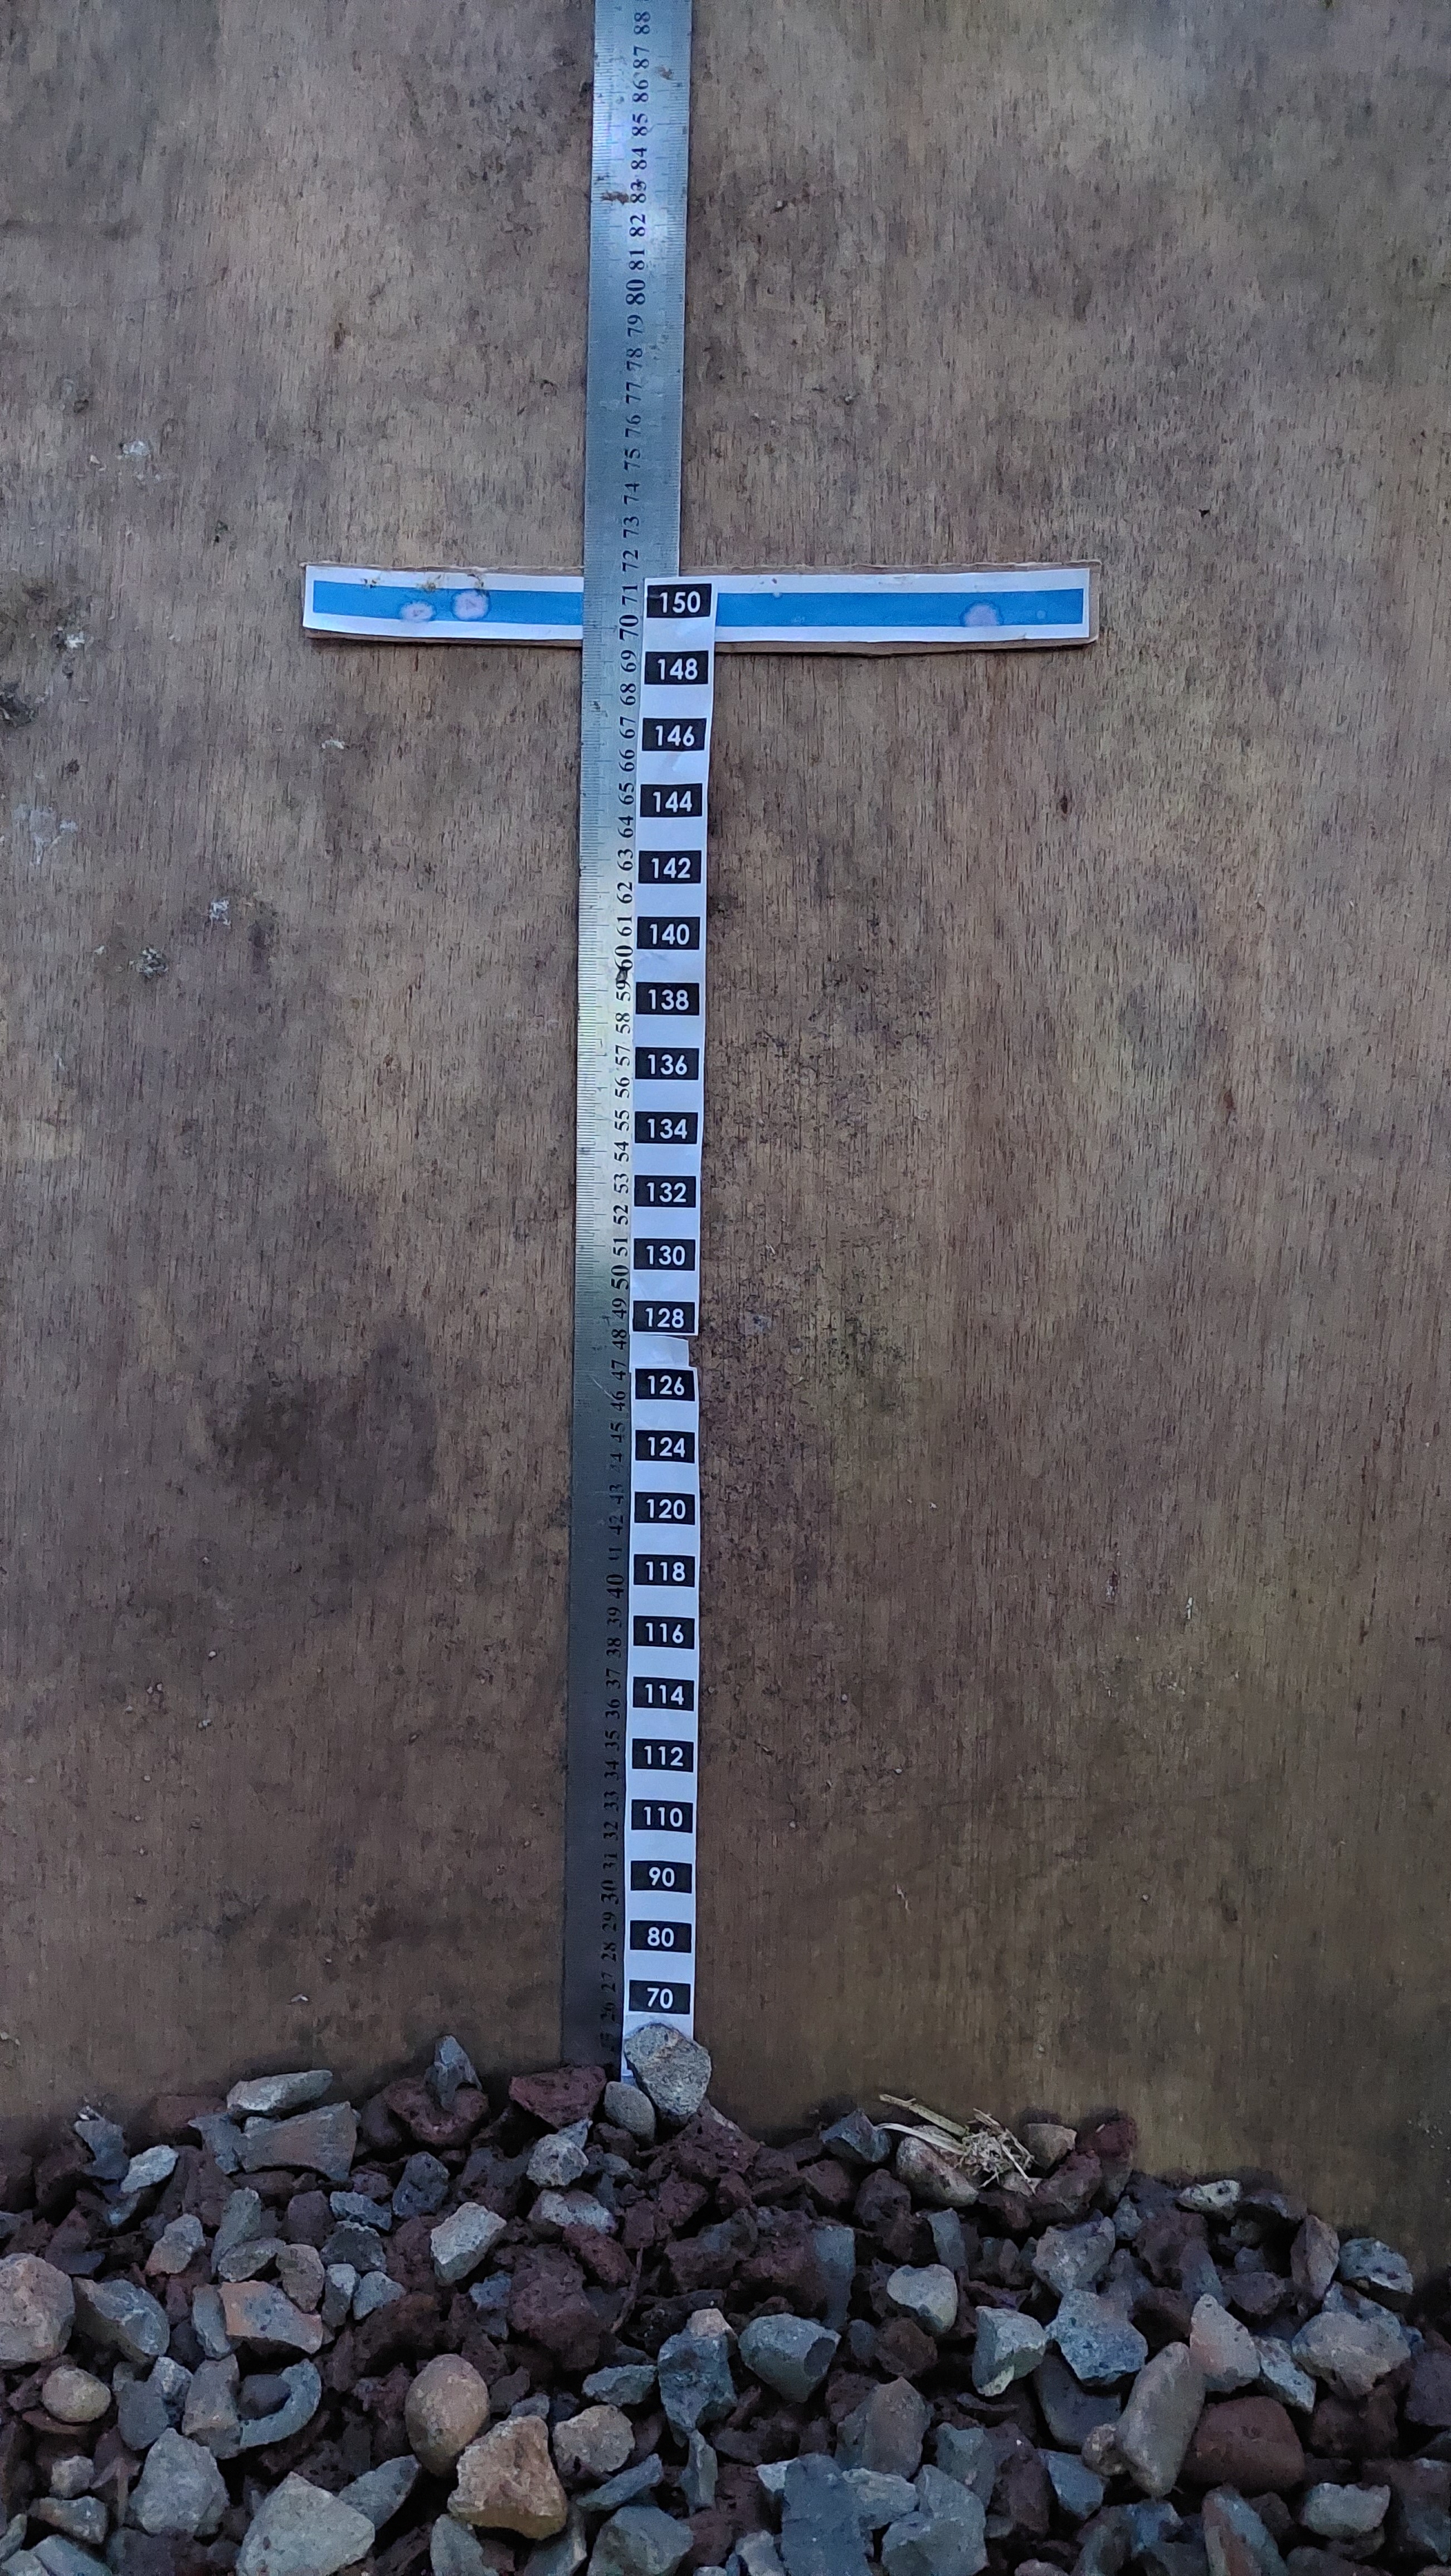kotak_2x1: (632, 975, 704, 1021), (630, 1668, 699, 1716), (630, 1484, 701, 1530), (628, 1548, 699, 1592), (628, 1610, 699, 1654), (626, 1734, 697, 1778), (626, 1790, 697, 1835), (630, 1362, 697, 1408), (635, 780, 708, 823), (635, 844, 704, 888), (632, 1106, 701, 1150), (630, 1231, 699, 1276), (644, 580, 715, 623), (642, 648, 713, 690), (639, 711, 710, 754), (626, 1856, 697, 1898), (632, 1168, 699, 1212), (633, 1042, 702, 1085), (625, 1974, 694, 2017), (635, 913, 702, 955), (626, 1916, 695, 1957), (628, 1295, 699, 1334), (632, 1424, 699, 1465)
mal_biru_150: (310, 573, 1090, 633)
